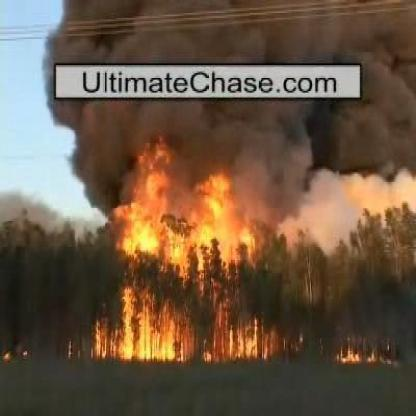-: (74, 102, 376, 184), (46, 14, 365, 59)
foggia-v2-map80-epoch100 - v1 4323: (120, 300, 173, 358)
